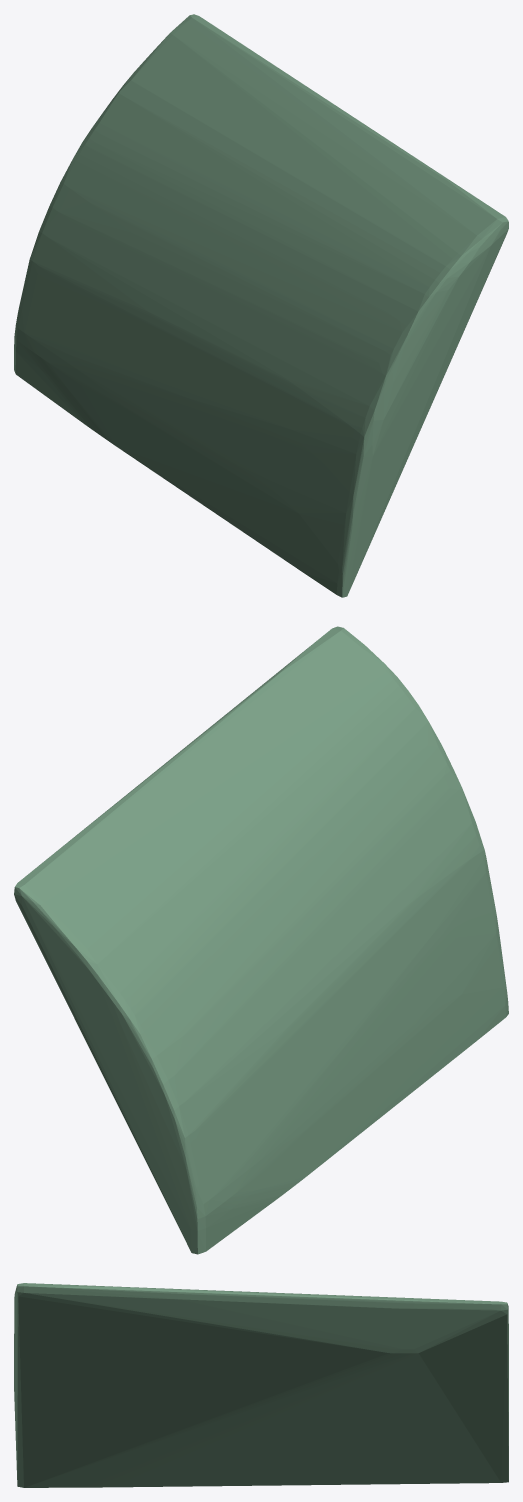
Rendered from right-shoulder-yaw-0_part_0.obj.
3 renders of one model, top to bottom at view 1: azimuth 30°, elevation 25°; view 2: azimuth 150°, elevation 25°; view 3: azimuth 270°, elevation 25°, orthographic. The views are drawn at different scales.
Bounding box in the file's own units: 0.0188 × 0.0329 × 0.0562.
